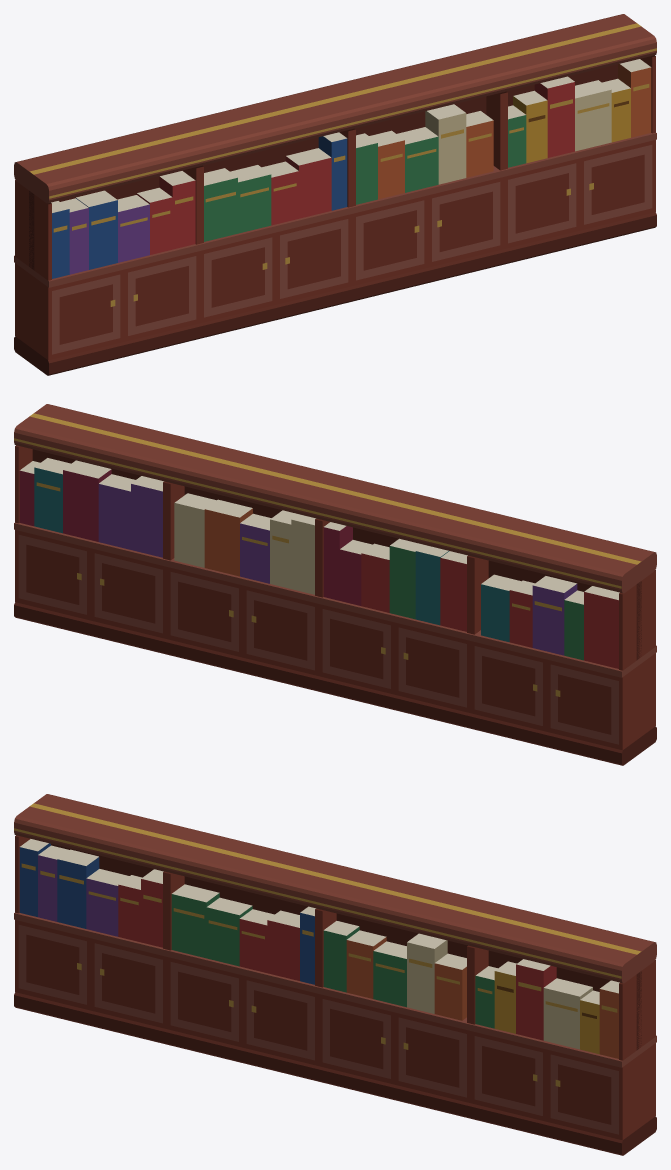
File: library-wall2.glb
3 views of the same model, one above another, from view 1: azimuth 30°, elevation 25°; view 2: azimuth 150°, elevation 25°; view 3: azimuth 330°, elevation 25° (orthographic).
Parts seen in each view (by area): view 1: library-wall2; view 2: library-wall2; view 3: library-wall2.
Boxes of the visible parts, x1,y1,x2,y2 form: library-wall2: (14,14,656,375); library-wall2: (14,404,656,765); library-wall2: (14,794,656,1155).
Size of the model in its own units: 4 by 1.2 by 0.401.
